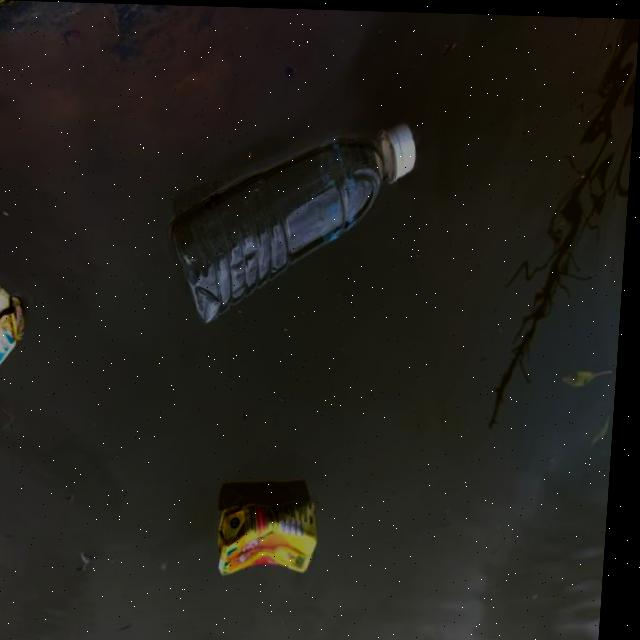paper: (217, 484, 335, 588), (0, 222, 37, 404)
waterbottle: (154, 114, 430, 318)
